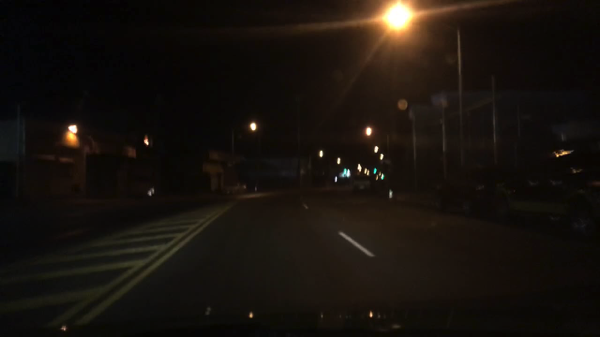car: (494, 150, 599, 239), (433, 165, 515, 216), (353, 176, 371, 191), (226, 183, 248, 195)
